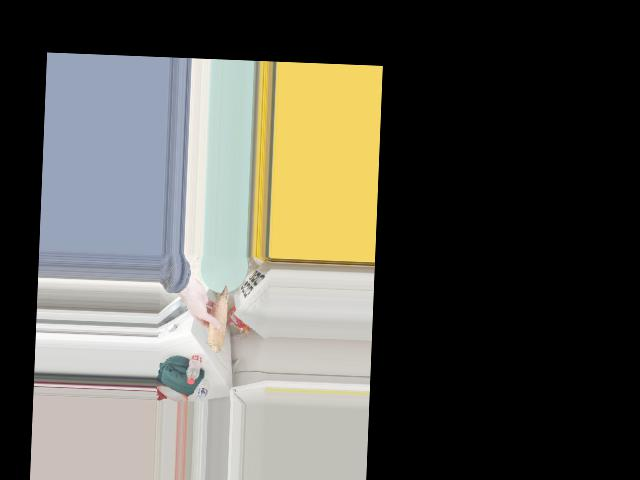sweet_potato: (206, 285, 234, 350)
